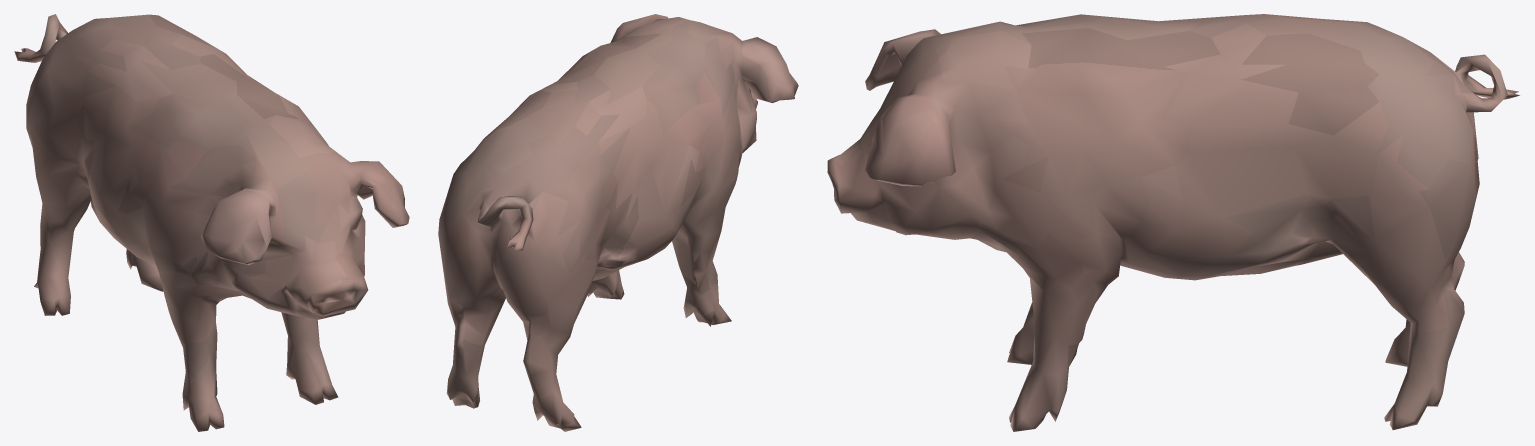
Rendered from pig.glb.
3 renders of one model, left to right at view 1: azimuth 30°, elevation 25°; view 2: azimuth 150°, elevation 25°; view 3: azimuth 270°, elevation 25°, orthographic. The views are drawn at different scales.
Visible parts, largest first — view 1: LO.001; view 2: LO.001; view 3: LO.001.
Boxes of the visible parts, x1,y1,x2,y2 form: LO.001: [14, 14, 409, 431]; LO.001: [438, 14, 798, 431]; LO.001: [827, 14, 1519, 431].
Size of the model in its own units: 0.6492 by 0.9322 by 1.6.
1 material, 1 textured.
